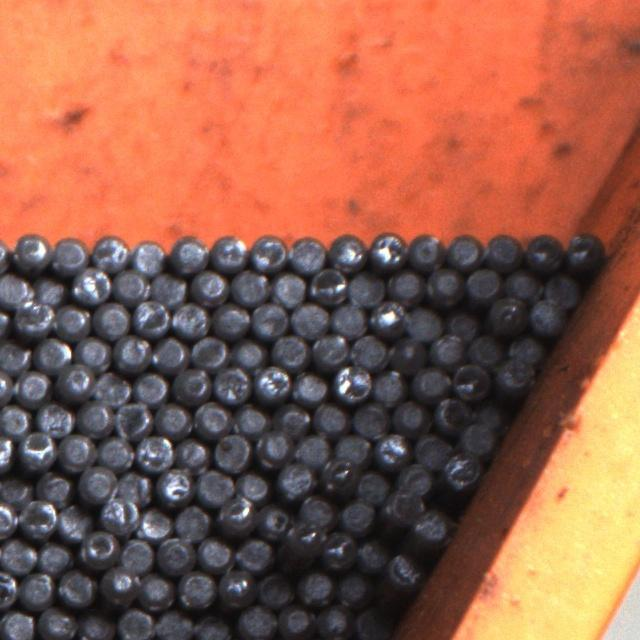tool: (522, 231, 562, 272), (493, 352, 534, 392), (78, 527, 118, 567), (562, 230, 602, 270), (90, 230, 129, 270), (296, 493, 336, 532), (440, 452, 480, 491), (17, 428, 55, 469), (173, 502, 212, 541), (327, 231, 366, 270), (317, 454, 356, 493), (213, 430, 251, 470), (216, 566, 254, 606), (369, 228, 407, 268), (484, 296, 524, 334), (216, 494, 256, 532), (483, 228, 521, 268), (98, 564, 138, 602), (281, 523, 321, 561), (57, 431, 95, 470), (14, 297, 53, 335), (235, 534, 274, 572), (190, 332, 229, 370), (155, 534, 194, 572), (132, 298, 171, 336), (250, 300, 289, 338), (256, 570, 295, 608), (114, 399, 152, 438), (72, 266, 111, 304), (308, 266, 347, 304), (209, 232, 248, 270), (195, 467, 233, 506), (288, 232, 326, 271), (424, 266, 462, 305), (213, 363, 251, 402), (411, 505, 450, 543), (541, 272, 580, 310), (502, 268, 540, 307), (395, 462, 434, 500), (450, 361, 490, 398), (290, 301, 328, 339), (230, 267, 268, 305), (271, 331, 309, 369), (132, 368, 170, 406), (57, 567, 95, 605), (336, 570, 374, 608), (368, 296, 406, 334), (372, 430, 410, 468), (192, 399, 230, 437), (112, 332, 150, 370), (333, 364, 371, 402), (34, 334, 72, 372), (92, 368, 130, 406), (137, 572, 175, 610), (254, 428, 292, 466), (56, 502, 94, 540), (176, 569, 214, 607), (310, 331, 348, 369), (75, 398, 113, 436), (156, 466, 194, 504), (253, 364, 291, 402), (296, 568, 334, 606), (169, 234, 207, 272), (230, 334, 268, 372), (249, 232, 287, 270), (150, 334, 188, 372), (276, 602, 314, 640), (78, 465, 116, 503), (171, 364, 209, 402), (256, 502, 294, 540), (276, 460, 314, 498), (48, 233, 86, 271), (528, 296, 566, 334), (384, 552, 422, 590), (465, 264, 502, 303), (319, 530, 356, 569), (97, 494, 136, 531), (430, 394, 469, 431), (458, 418, 498, 454), (269, 268, 306, 306), (444, 230, 481, 268), (211, 300, 249, 337), (14, 367, 51, 405), (190, 267, 228, 304), (96, 432, 134, 469), (196, 534, 233, 572), (370, 366, 407, 404), (93, 300, 130, 338), (171, 299, 208, 337), (390, 397, 428, 434), (316, 603, 354, 640), (136, 433, 173, 471), (35, 400, 73, 437), (330, 300, 367, 338), (406, 230, 443, 268), (339, 496, 376, 534), (35, 468, 73, 505), (238, 603, 276, 640), (117, 535, 154, 573), (112, 266, 150, 303), (136, 504, 173, 542), (154, 399, 191, 437), (36, 537, 74, 574), (11, 230, 48, 268), (114, 468, 151, 506), (347, 270, 384, 308), (232, 401, 270, 438), (19, 499, 56, 537), (332, 432, 370, 469), (412, 361, 449, 399), (234, 466, 272, 503), (352, 400, 389, 438), (273, 400, 310, 438), (378, 494, 415, 532), (173, 434, 210, 471), (350, 332, 387, 369), (53, 302, 90, 339), (57, 361, 94, 398), (149, 270, 186, 307), (390, 333, 427, 370), (292, 368, 328, 406), (38, 604, 76, 640), (18, 570, 54, 608), (414, 432, 452, 468), (0, 536, 36, 574), (354, 536, 390, 574), (74, 332, 110, 369), (312, 400, 349, 436), (387, 267, 424, 303), (466, 331, 503, 367), (428, 329, 465, 365), (30, 274, 67, 310), (354, 605, 392, 640), (294, 430, 330, 466), (130, 237, 166, 273), (406, 304, 442, 340), (355, 468, 391, 504), (444, 308, 481, 342), (118, 606, 154, 640), (156, 608, 194, 640), (78, 608, 116, 640), (0, 472, 32, 509), (0, 272, 31, 310), (0, 401, 31, 438), (0, 607, 34, 640), (0, 337, 30, 374), (194, 611, 232, 640), (0, 500, 17, 537), (0, 570, 16, 608)
